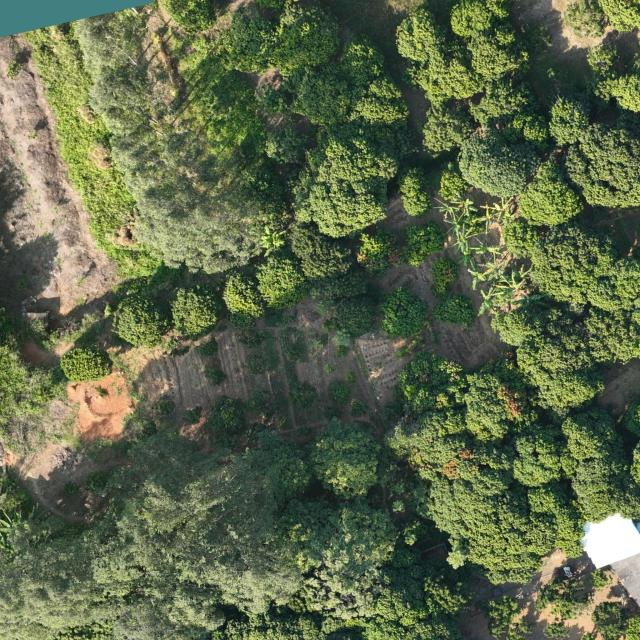tree: (290, 119, 402, 239), (564, 110, 640, 210), (458, 123, 544, 200), (306, 416, 382, 503), (516, 147, 586, 226), (400, 52, 484, 106), (467, 22, 532, 84), (252, 255, 312, 310), (420, 103, 477, 159), (394, 6, 448, 65), (111, 296, 169, 350), (170, 281, 222, 339), (379, 286, 431, 338), (354, 226, 401, 282), (449, 0, 514, 39), (400, 218, 448, 268), (547, 94, 591, 147), (59, 342, 112, 384), (222, 266, 264, 319), (331, 294, 379, 338), (562, 0, 609, 41), (396, 165, 432, 218), (432, 294, 476, 326), (432, 258, 461, 298), (437, 169, 468, 202), (258, 225, 286, 256)
